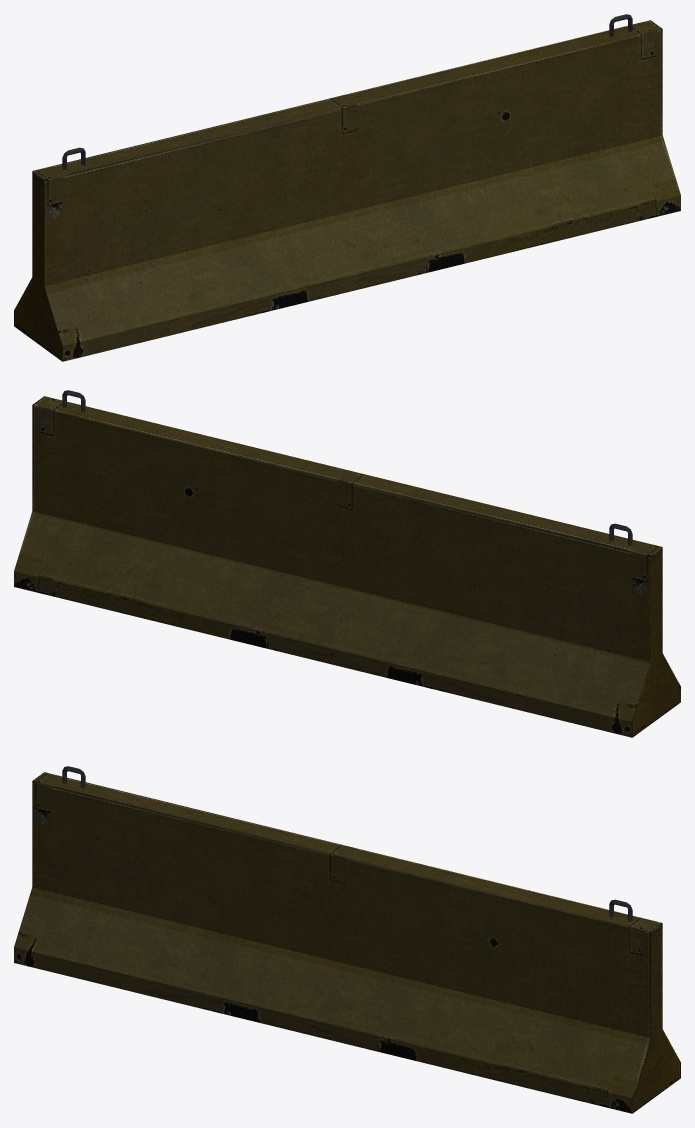
Rendered from barricade_a_1.glb.
3 renders of one model, top to bottom at view 1: azimuth 30°, elevation 25°; view 2: azimuth 150°, elevation 25°; view 3: azimuth 330°, elevation 25°, orthographic.
Visible parts, largest first — view 1: barricade_a_1; view 2: barricade_a_1; view 3: barricade_a_1.
Boxes of the visible parts, left/top/right/bottom form: barricade_a_1: left=14, top=14, right=680, bottom=361; barricade_a_1: left=14, top=390, right=680, bottom=737; barricade_a_1: left=14, top=766, right=680, bottom=1113.
Size of the model in its own units: 2.94 by 0.8466 by 0.4.
1 material, 1 textured.
